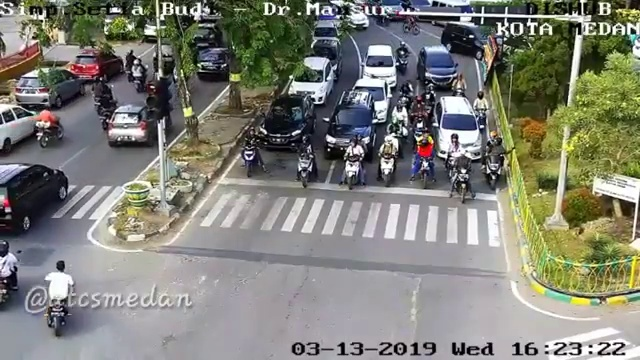car: (1, 162, 70, 238), (326, 90, 378, 161), (261, 93, 318, 152), (16, 67, 86, 112), (435, 97, 482, 164), (289, 54, 335, 108), (109, 106, 162, 150), (1, 103, 42, 159), (441, 20, 494, 63), (351, 78, 393, 124), (70, 51, 125, 86), (418, 47, 455, 93), (363, 42, 398, 88), (197, 45, 232, 81), (311, 37, 341, 78), (313, 21, 340, 55)
motorbike: (43, 259, 72, 338), (295, 134, 320, 190), (1, 243, 21, 311), (240, 128, 264, 179), (484, 128, 504, 189), (37, 109, 64, 148), (346, 138, 366, 188), (415, 132, 433, 186), (453, 151, 471, 205), (379, 138, 396, 190), (92, 78, 112, 114), (473, 89, 488, 136), (393, 101, 409, 143), (411, 96, 426, 134), (132, 57, 147, 93), (422, 84, 435, 123), (399, 79, 413, 112), (396, 42, 409, 76), (452, 74, 467, 102), (125, 49, 135, 83)
